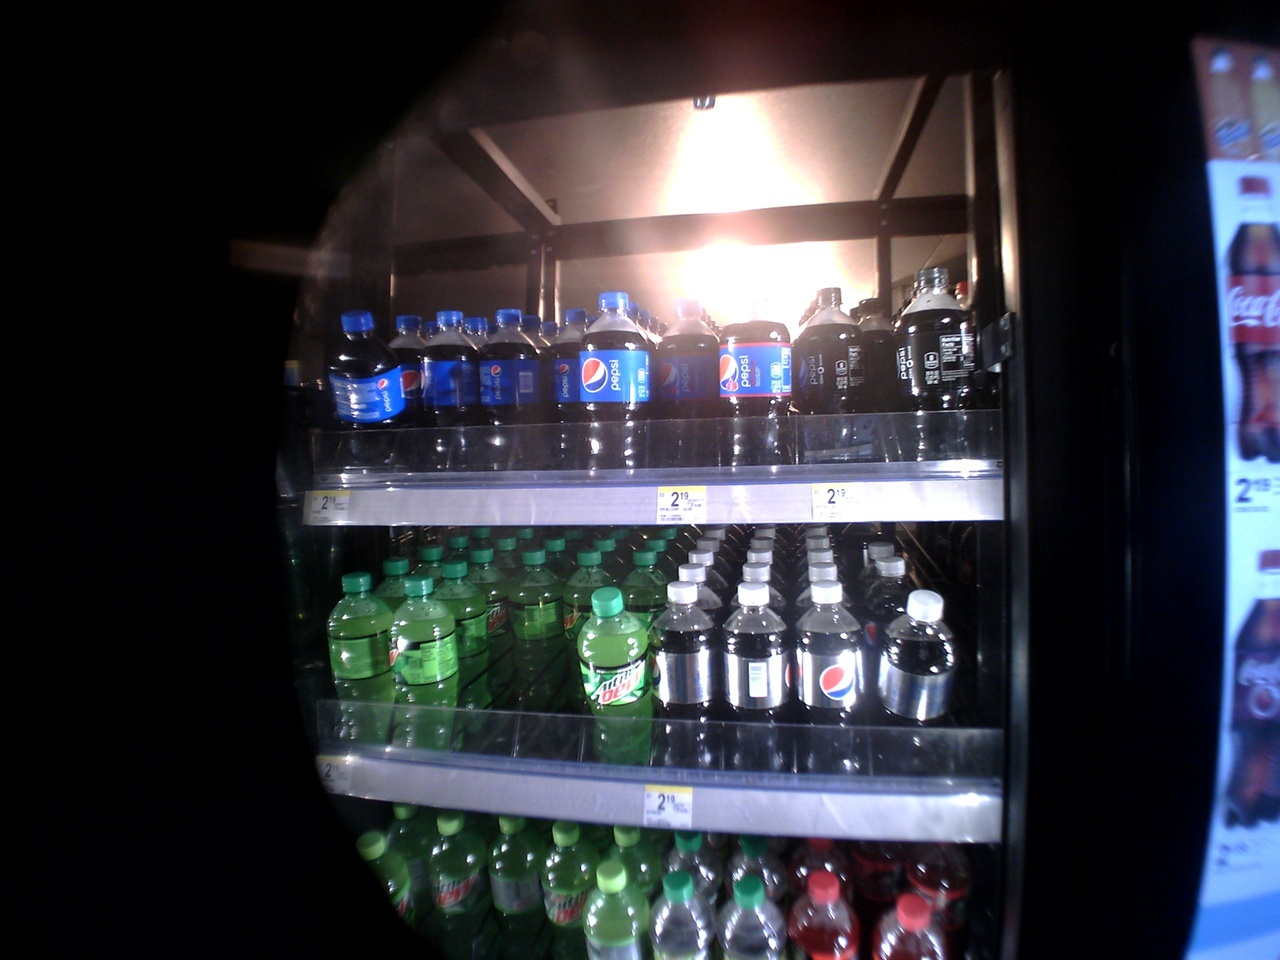shelf: (277, 531, 981, 820), (315, 282, 990, 526), (305, 814, 1012, 960)
